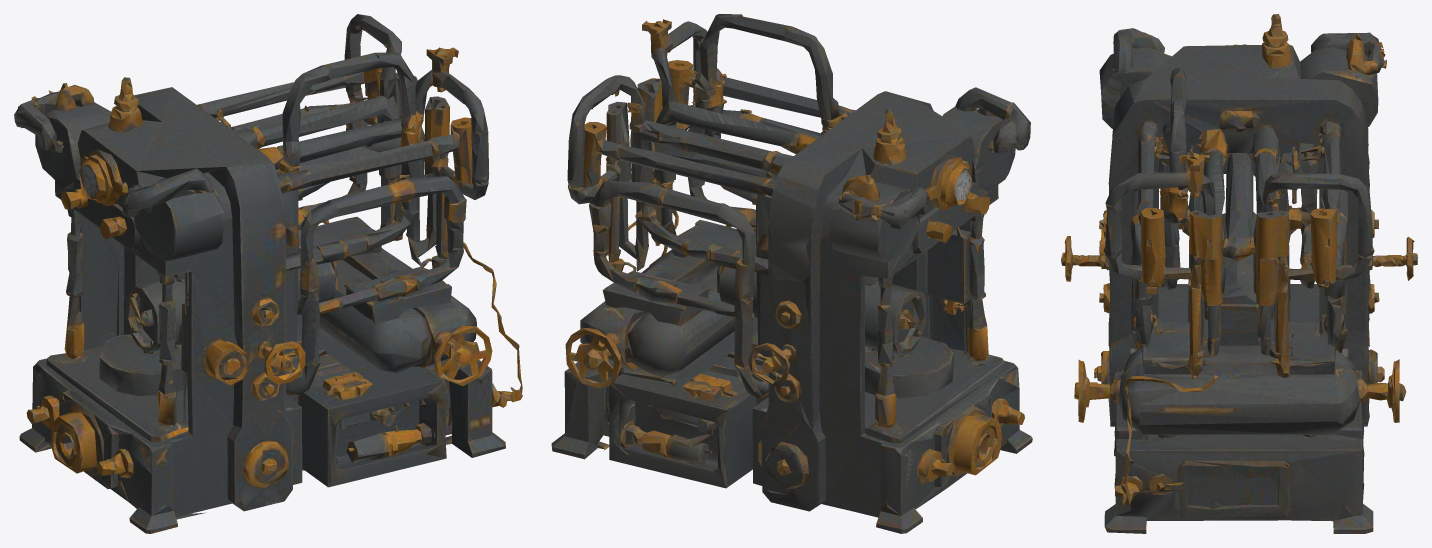
File: upgrade-machine.glb
3 views of the same model, side by side, from view 1: azimuth 30°, elevation 25°; view 2: azimuth 150°, elevation 25°; view 3: azimuth 270°, elevation 25° (orthographic).
Size of the model in its own units: 1.9 by 1.78 by 1.48.
1 material, 1 textured.
